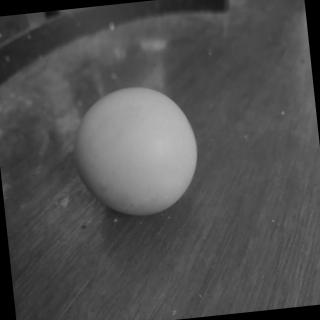Telur: (66, 80, 209, 225)
